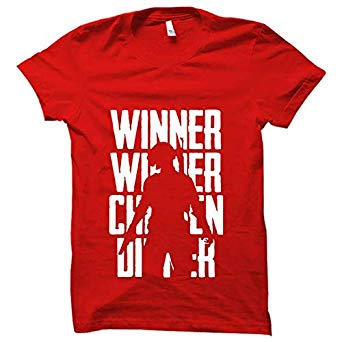T-Shirt: (15, 5, 327, 337)
